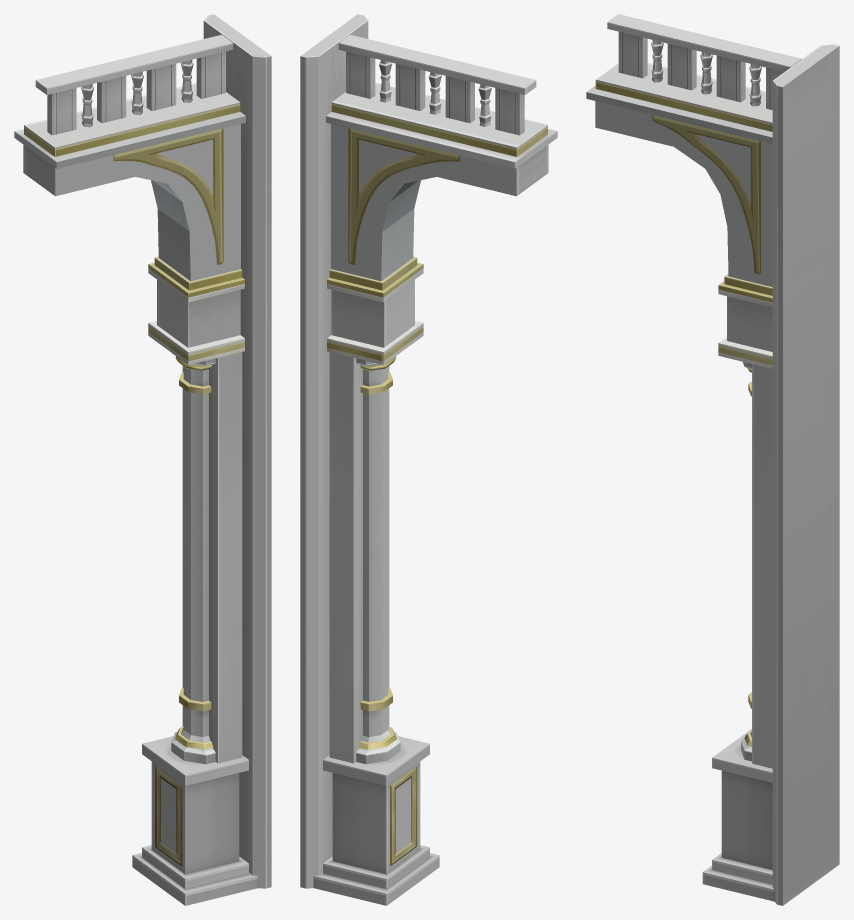
Rendered from my_teaparty_01_pillar_01.glb.
The picture shows the model from 3 angles, left to right: view 1: azimuth 30°, elevation 25°; view 2: azimuth 150°, elevation 25°; view 3: azimuth 330°, elevation 25°; orthographic projection.
Visible parts, largest first — view 1: my_teaparty_01_pillar_01; view 2: my_teaparty_01_pillar_01; view 3: my_teaparty_01_pillar_01.
Part boxes in pixels (box(x1,y1,x2,y2)): my_teaparty_01_pillar_01: box(14, 14, 271, 905); my_teaparty_01_pillar_01: box(300, 14, 557, 905); my_teaparty_01_pillar_01: box(586, 14, 839, 905).
Bounding box in the file's own units: 0.0118 × 0.0452 × 0.00568.
Materials: 1 (1 with a texture image).
